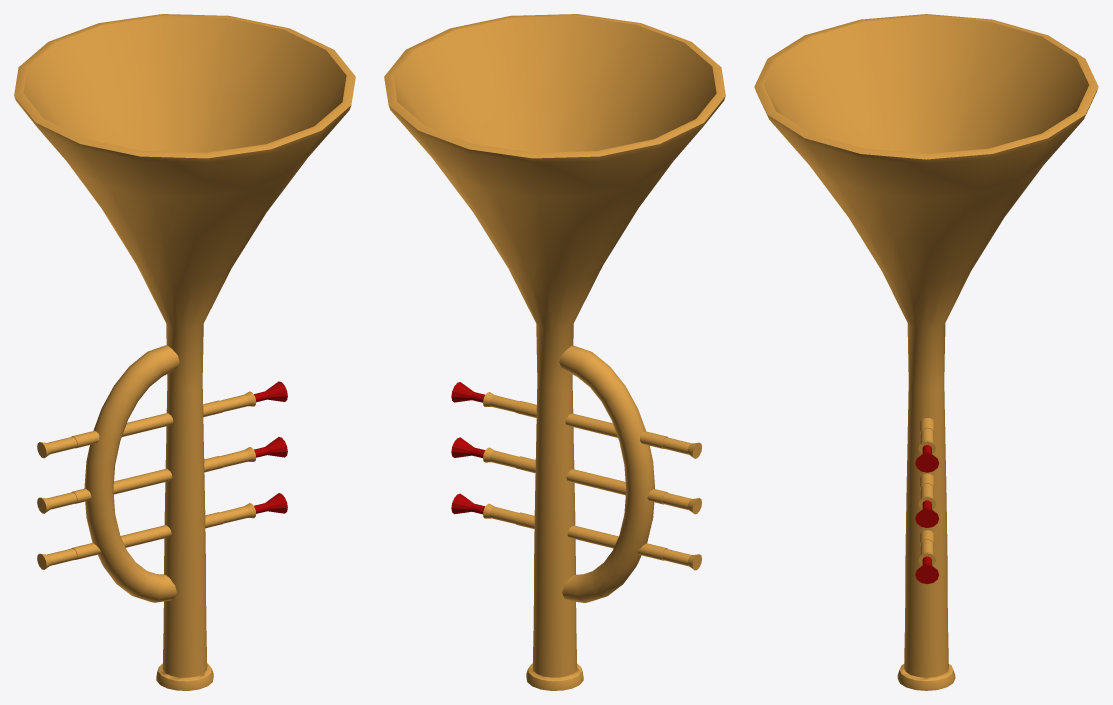
File: F_Trumpet_01.fbx
3 views of the same model, side by side, from view 1: azimuth 30°, elevation 25°; view 2: azimuth 150°, elevation 25°; view 3: azimuth 270°, elevation 25° (orthographic).
Parts seen in each view (by area): view 1: F_Trumpet_01; view 2: F_Trumpet_01; view 3: F_Trumpet_01.
Part boxes in pixels (x1,y1,x2,y2): F_Trumpet_01: (14,14,355,690); F_Trumpet_01: (384,14,725,690); F_Trumpet_01: (754,14,1098,690).
Size of the model in its own units: 34.9 by 66.42 by 34.9.
